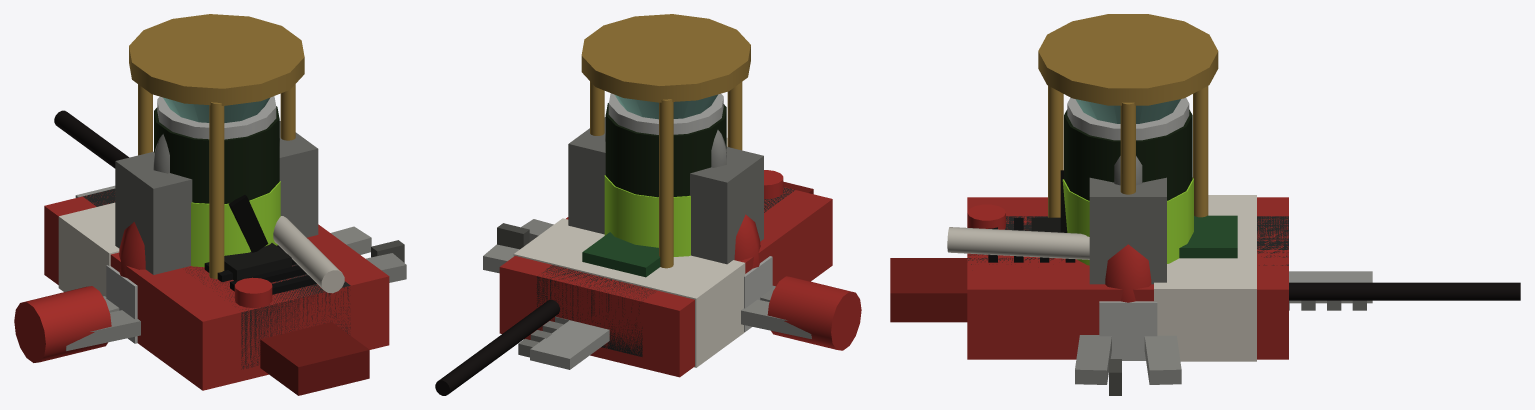
Rendered from items.glb.
3 renders of one model, left to right at view 1: azimuth 30°, elevation 25°; view 2: azimuth 150°, elevation 25°; view 3: azimuth 270°, elevation 25°, orthographic. The views are drawn at different scales.
Visible parts, largest first — view 1: SMOKE, REVERSE, ENERGY, WARD, EJECT, RADIO, KNIFE, MAGNET; view 2: SMOKE, REVERSE, ENERGY, WARD, RADIO, EJECT, KNIFE, MAGNET; view 3: SMOKE, REVERSE, ENERGY, RADIO, WARD, KNIFE, MAGNET, EJECT.
Part boxes in pixels (left/top/right/bottom): SMOKE: left=44, top=190, right=389, bottom=390; REVERSE: left=129, top=14, right=304, bottom=278; ENERGY: left=154, top=96, right=280, bottom=267; WARD: left=115, top=121, right=318, bottom=274; EJECT: left=14, top=226, right=406, bottom=362; RADIO: left=54, top=110, right=350, bottom=369; KNIFE: left=75, top=185, right=369, bottom=395; MAGNET: left=106, top=222, right=145, bottom=343; SMOKE: left=499, top=138, right=832, bottom=377; REVERSE: left=581, top=14, right=750, bottom=268; ENERGY: left=604, top=93, right=726, bottom=256; WARD: left=568, top=117, right=763, bottom=264; RADIO: left=435, top=170, right=794, bottom=395; EJECT: left=483, top=219, right=861, bottom=350; KNIFE: left=518, top=181, right=813, bottom=369; MAGNET: left=734, top=214, right=772, bottom=331; SMOKE: left=947, top=195, right=1288, bottom=361; REVERSE: left=1038, top=14, right=1218, bottom=217; ENERGY: left=1060, top=97, right=1193, bottom=265; RADIO: left=967, top=204, right=1520, bottom=300; WARD: left=1089, top=156, right=1166, bottom=284; KNIFE: left=890, top=258, right=1372, bottom=322; MAGNET: left=1099, top=244, right=1157, bottom=360; EJECT: left=1075, top=335, right=1181, bottom=395.
Size of the model in its own units: 0.665 by 0.4587 by 0.98.
